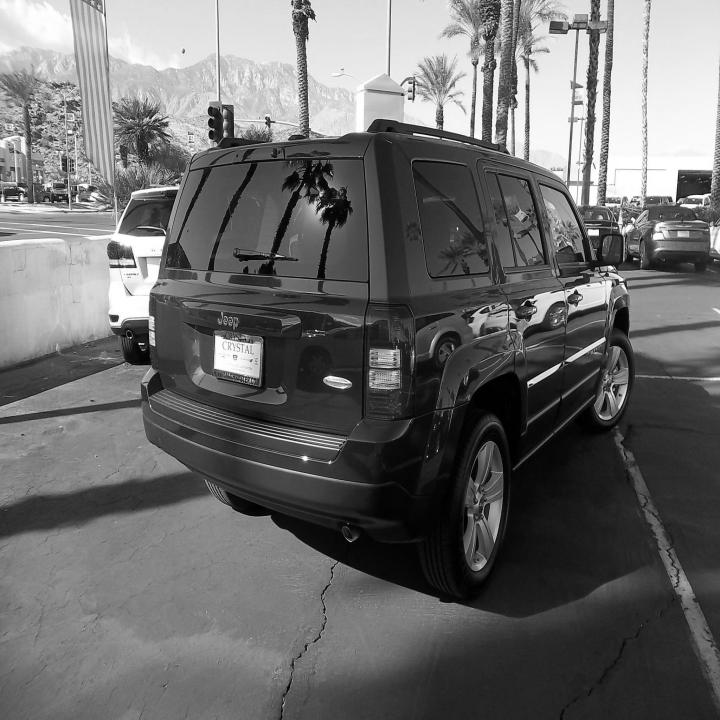car: (139, 117, 635, 600), (107, 182, 180, 364), (624, 206, 711, 272)
